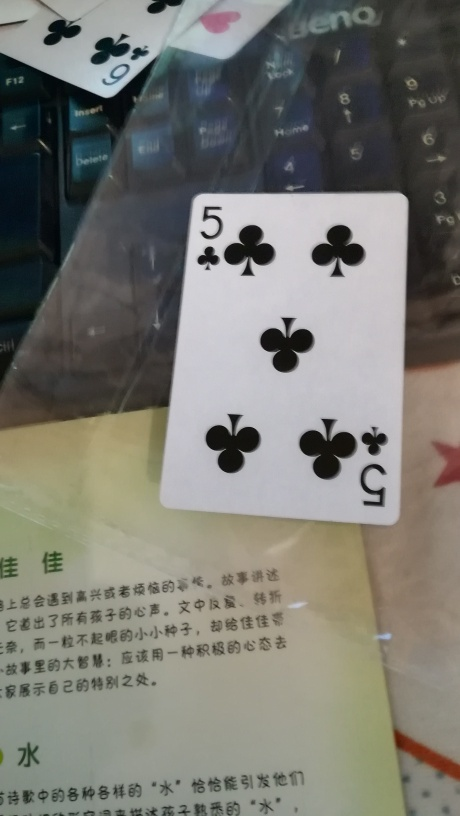mh 5: (161, 189, 408, 529)
